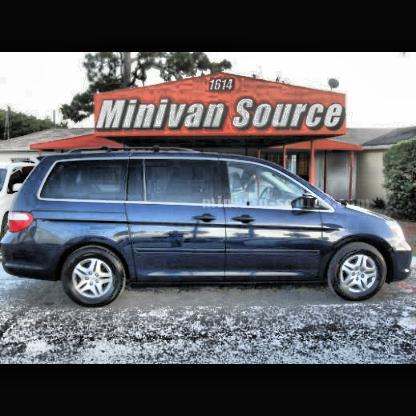Honda Odyssey Minivan 2007: (4, 146, 416, 308)
